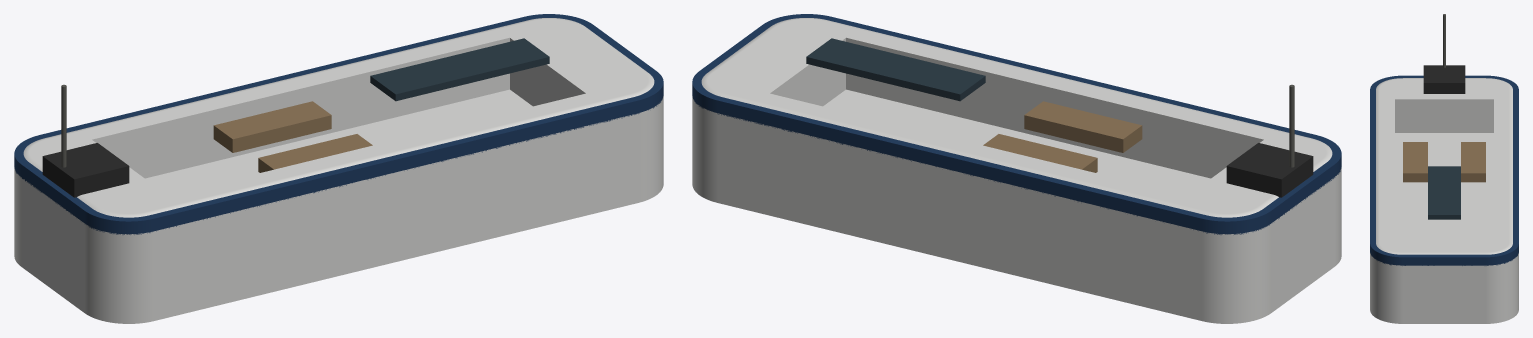
The model's file is a08-umpire-launch.glb.
The picture shows the model from 3 angles, left to right: view 1: azimuth 30°, elevation 25°; view 2: azimuth 150°, elevation 25°; view 3: azimuth 270°, elevation 25°; orthographic projection. The views are drawn at different scales.
Parts seen in each view (by area): view 1: part0, part1, part4, part3, part5, part2, part6; view 2: part0, part1, part4, part2, part5, part3, part6; view 3: part0, part1, part4, part5, part2, part3, part6.
Part boxes in pixels (x1=…): part0: x1=14, y1=18, x2=663, y2=323; part1: x1=14, y1=14, x2=663, y2=234; part4: x1=370, y1=38, x2=549, y2=101; part3: x1=213, y1=101, x2=331, y2=152; part5: x1=42, y1=143, x2=129, y2=197; part2: x1=258, y1=134, x2=372, y2=172; part6: x1=61, y1=84, x2=66, y2=167; part0: x1=692, y1=18, x2=1341, y2=323; part1: x1=692, y1=14, x2=1341, y2=234; part4: x1=806, y1=38, x2=985, y2=101; part2: x1=1024, y1=101, x2=1142, y2=152; part5: x1=1226, y1=143, x2=1313, y2=197; part3: x1=983, y1=134, x2=1097, y2=172; part6: x1=1289, y1=84, x2=1294, y2=167; part0: x1=1370, y1=78, x2=1518, y2=323; part1: x1=1370, y1=75, x2=1518, y2=265; part4: x1=1428, y1=166, x2=1460, y2=219; part5: x1=1423, y1=65, x2=1465, y2=93; part2: x1=1403, y1=142, x2=1427, y2=182; part3: x1=1461, y1=142, x2=1485, y2=182; part6: x1=1443, y1=14, x2=1445, y2=67.
Bounding box in the file's own units: 5200 × 1750 × 1800.
